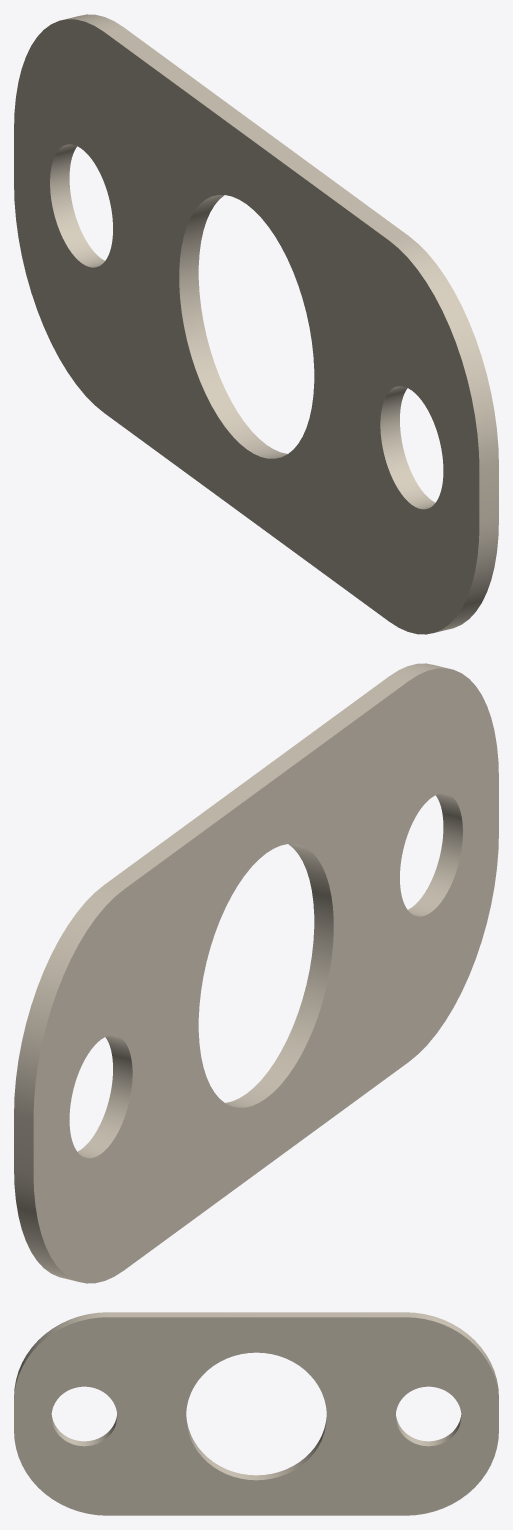
File: egr-intake-gasket.glb
3 views of the same model, one above another, from view 1: azimuth 30°, elevation 25°; view 2: azimuth 150°, elevation 25°; view 3: azimuth 270°, elevation 25° (orthographic). The views are drawn at different scales.
Parts seen in each view (by area): view 1: world; view 2: world; view 3: world.
Part boxes in pixels (x1,y1,x2,y2): world: (14,14,498,634); world: (14,663,498,1283); world: (14,1312,498,1515).
Size of the model in its own units: 0.0015 by 0.028 by 0.062.
